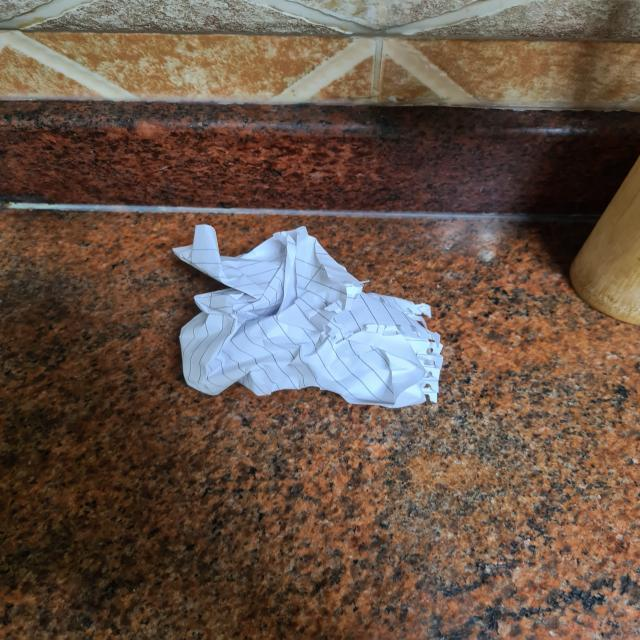Paper: (173, 222, 445, 402)
